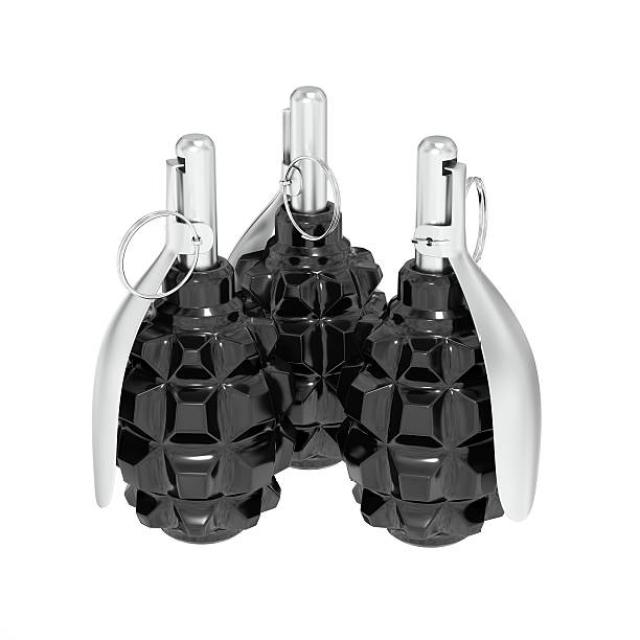grenade: (87, 132, 301, 550), (350, 136, 548, 550)
